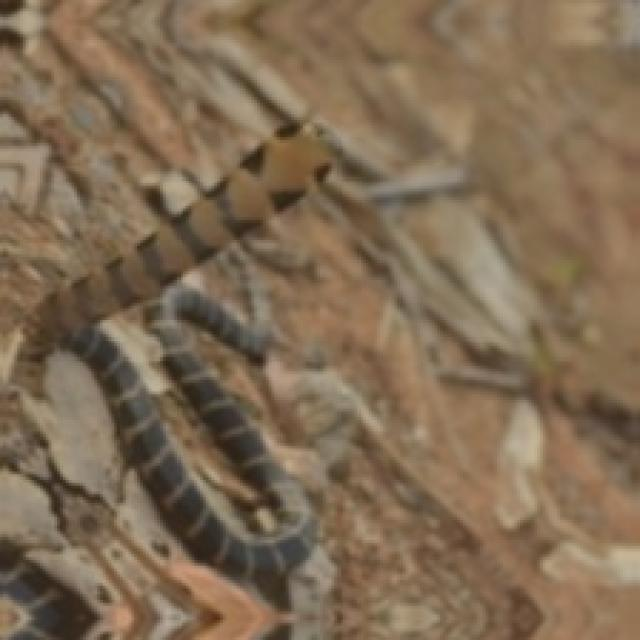king cobra: (69, 123, 331, 637)
